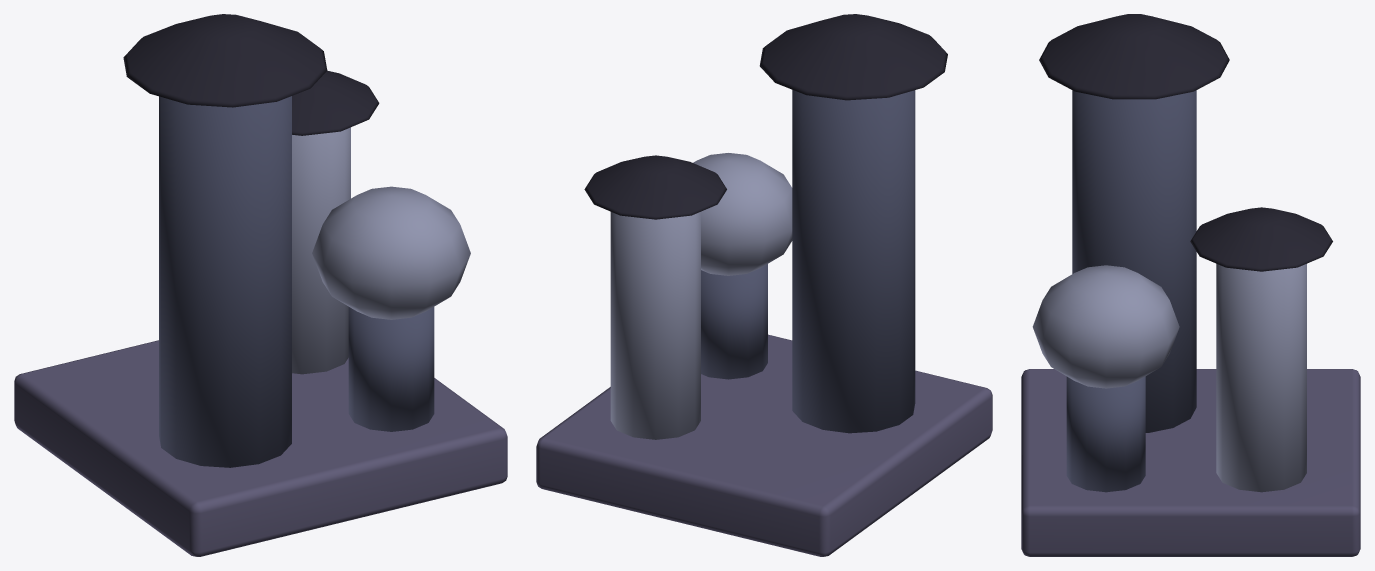
The model's file is neon_vent.glb.
3 views of the same model, side by side, from view 1: azimuth 30°, elevation 25°; view 2: azimuth 150°, elevation 25°; view 3: azimuth 270°, elevation 25° (orthographic). The views are drawn at different scales.
Parts seen in each view (by area): view 1: Vent; view 2: Vent; view 3: Vent.
Boxes of the visible parts, x1,y1,x2,y2 form: Vent: [14, 14, 507, 556]; Vent: [536, 14, 992, 556]; Vent: [1021, 14, 1360, 556].
Bounding box in the file's own units: 1.2 × 1.69 × 1.2.
